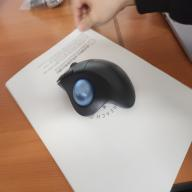mouse: (56, 57, 136, 117)
